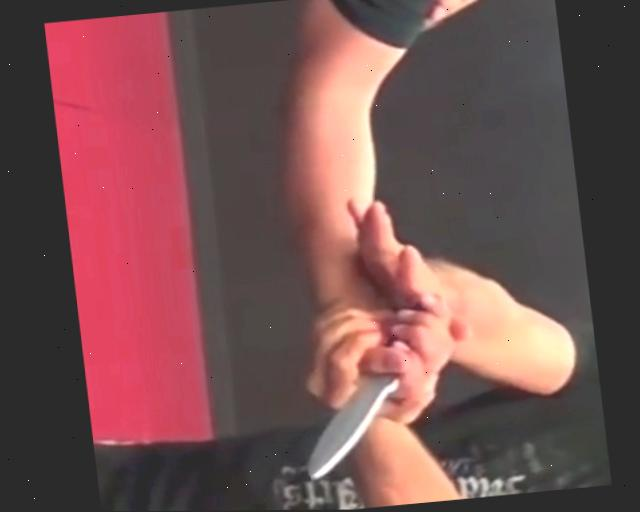pocket-knife: (287, 330, 445, 486)
